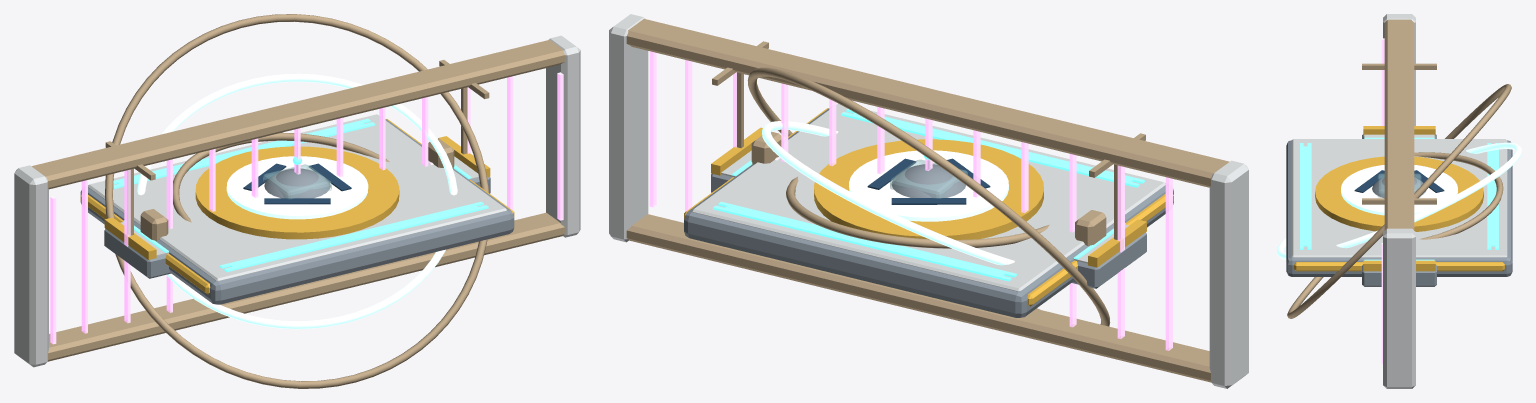
Rendered from props01.glb.
3 renders of one model, left to right at view 1: azimuth 30°, elevation 25°; view 2: azimuth 150°, elevation 25°; view 3: azimuth 270°, elevation 25°, orthographic. The views are drawn at different scales.
Parts seen in each view (by area): view 1: barrier__P_brass, platform_0__P_light, barrier__P_light, info_rings__P_brass, barrier__P_pink, jump_pad__P_yellow, platform_0__P_steel, info_rings__P_mint, platform_1__P_light, jump_pad__P_mint, platform_3__P_steel, platform_3__P_light (+15 smaller); view 2: barrier__P_brass, barrier__P_light, platform_0__P_light, barrier__P_pink, jump_pad__P_yellow, platform_0__P_steel, info_rings__P_brass, jump_pad__P_mint, info_rings__P_mint, platform_3__P_steel, platform_3__P_light, sentinel_drone__P_steel (+13 smaller); view 3: platform_0__P_light, barrier__P_brass, barrier__P_light, jump_pad__P_yellow, info_rings__P_brass, platform_1__P_light, jump_pad__P_mint, platform_3__P_steel, info_rings__P_mint, platform_2__P_light, platform_2__P_steel, platform_2__P_yellow (+13 smaller).
Boxes of the visible parts, x1,y1,x2,y2 form: barrier__P_brass: [31, 40, 564, 361]; platform_0__P_light: [98, 116, 497, 278]; barrier__P_light: [14, 35, 580, 367]; info_rings__P_brass: [105, 14, 488, 388]; barrier__P_pink: [50, 72, 563, 344]; jump_pad__P_yellow: [195, 146, 399, 239]; platform_0__P_steel: [228, 215, 502, 302]; info_rings__P_mint: [137, 73, 457, 329]; platform_1__P_light: [135, 124, 494, 273]; jump_pad__P_mint: [226, 156, 368, 219]; platform_3__P_steel: [80, 119, 514, 304]; platform_3__P_light: [88, 114, 507, 281]; barrier__P_brass: [626, 19, 1229, 382]; barrier__P_light: [609, 14, 1248, 388]; platform_0__P_light: [702, 107, 1154, 288]; barrier__P_pink: [649, 51, 1172, 350]; jump_pad__P_yellow: [814, 139, 1043, 239]; platform_0__P_steel: [697, 217, 1007, 315]; info_rings__P_brass: [747, 67, 1110, 326]; jump_pad__P_mint: [849, 150, 1008, 221]; info_rings__P_mint: [762, 121, 1014, 265]; platform_3__P_steel: [684, 108, 1173, 317]; platform_3__P_light: [692, 103, 1165, 291]; sentinel_drone__P_steel: [891, 164, 965, 197]; platform_0__P_light: [1291, 142, 1507, 252]; barrier__P_brass: [1384, 19, 1414, 230]; barrier__P_light: [1383, 14, 1415, 388]; jump_pad__P_yellow: [1315, 156, 1483, 231]; info_rings__P_brass: [1287, 84, 1511, 318]; platform_1__P_light: [1297, 142, 1501, 251]; jump_pad__P_mint: [1341, 165, 1457, 215]; platform_3__P_steel: [1286, 140, 1512, 276]; info_rings__P_mint: [1277, 142, 1521, 259]; platform_2__P_light: [1301, 139, 1497, 257]; platform_2__P_steel: [1300, 257, 1498, 276]; platform_2__P_yellow: [1304, 262, 1494, 271].
Bounding box in the file's own units: 6.74 × 3.17 × 3.13.
